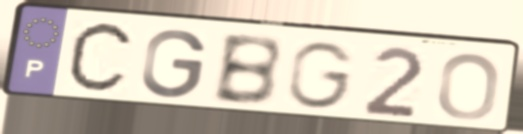2: (362, 43, 429, 121)
B: (209, 33, 285, 109)
C: (62, 18, 139, 99)
G: (285, 39, 359, 112), (138, 27, 210, 101)
O: (434, 50, 504, 123)
